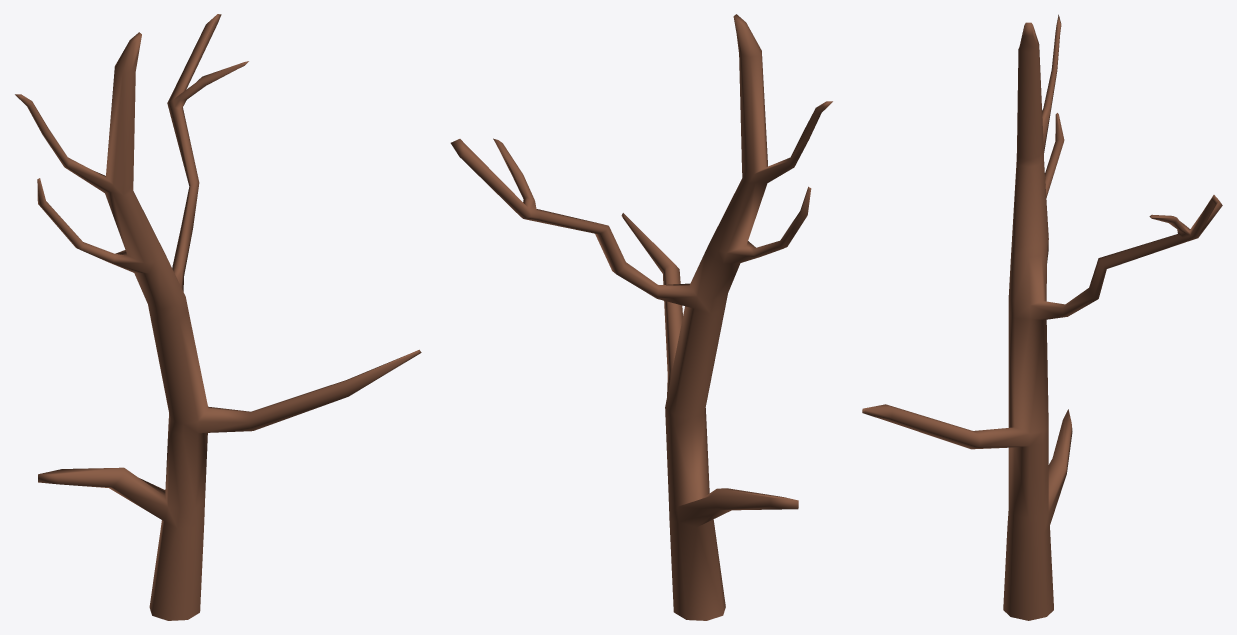
Rendered from Arvore_4.fbx.
The picture shows the model from 3 angles, left to right: view 1: azimuth 30°, elevation 25°; view 2: azimuth 150°, elevation 25°; view 3: azimuth 270°, elevation 25°; orthographic projection. The views are drawn at different scales.
Visible parts, largest first — view 1: Arvore_4; view 2: Arvore_4; view 3: Arvore_4.
Boxes of the visible parts, x1,y1,x2,y2 form: Arvore_4: [15, 14, 421, 620]; Arvore_4: [450, 14, 832, 620]; Arvore_4: [862, 14, 1222, 620].
Bounding box in the file's own units: 3.16 × 3.02 × 5.53.
